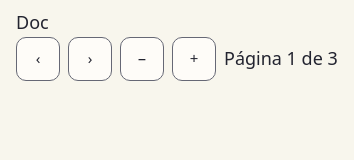
Test: pdf viewer pages through document
Expected: the text "Página 1 de 3" is shown, [224,45,338,73]
Click the button named "Página siguiente" at (90, 59), box [68,37,112,81]
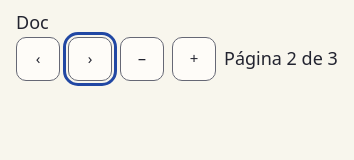
Expected: the button named "Página anterior" is shown, [16,37,60,81]
Result: the text "Página 2 de 3" is shown at [224,45,338,73]
